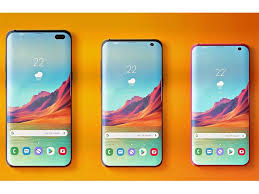samsung: (4, 29, 73, 168), (98, 38, 164, 170), (191, 36, 255, 167)
